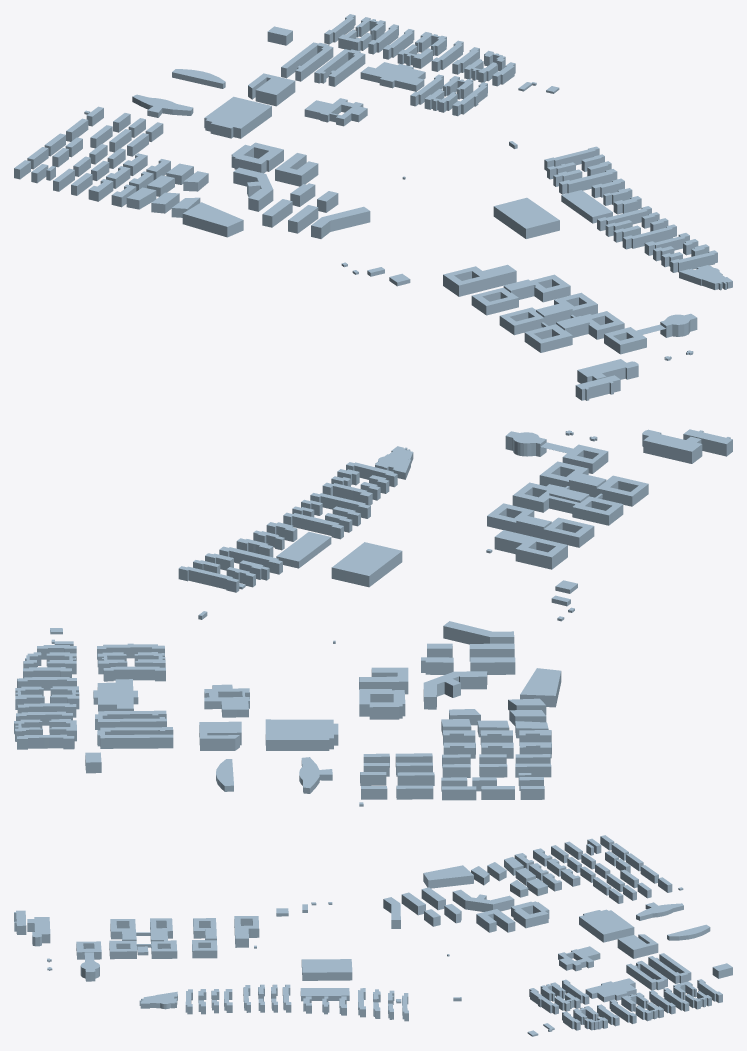
File: campus-lod1.glb
3 renders of one model, top to bottom at view 1: azimuth 30°, elevation 25°; view 2: azimuth 150°, elevation 25°; view 3: azimuth 270°, elevation 25°, orthographic. The views are drawn at different scales.
Parts seen in each view (by area): view 1: osm_way_223699456, osm_way_223699452, osm_way_155434036, osm_way_1281082570, osm_way_223859810, osm_way_223699454, njupt_k_dining_04, osm_way_224896131, osm_way_1173059720, osm_way_223944208, osm_way_1173057055, osm_way_1173057050 (+11 smaller); view 2: osm_way_155434036, osm_way_223699452, osm_way_223699456, osm_way_1281082570, osm_way_223859810, osm_way_223699454, osm_way_1173057055, osm_way_223859826, osm_way_1173059720, osm_way_224896131, osm_way_223944208, osm_way_225253712 (+21 smaller); view 3: osm_way_1281082570, osm_way_223859810, osm_way_223699456, osm_way_155434036, osm_way_223699452, njupt_k_dining_04, osm_way_1173057055, osm_way_224896131, osm_way_1173059720, osm_way_223944208, osm_way_223699454, osm_way_1173057056 (+16 smaller).
Part boxes in pixels (x1,y1,x2,y2): osm_way_223699456: (524,311,624,352); osm_way_223699452: (471,274,570,315); osm_way_155434036: (499,292,597,335); osm_way_1281082570: (204,96,271,138); osm_way_223859810: (493,197,559,238); osm_way_223699454: (443,264,516,296); njupt_k_dining_04: (182,202,243,237); osm_way_224896131: (360,62,425,91); osm_way_1173059720: (231,142,283,173); osm_way_223944208: (248,73,295,106); osm_way_1173057055: (233,167,273,211); osm_way_1173057050: (311,206,370,238); osm_way_155434036: (512,482,623,525); osm_way_223699452: (487,503,594,547); osm_way_223699456: (539,461,648,506); osm_way_1281082570: (265,719,338,750); osm_way_223859810: (331,542,402,587); osm_way_223699454: (494,530,567,569); osm_way_1173057055: (423,671,487,709); osm_way_223859826: (642,429,702,463); osm_way_1173059720: (359,689,405,719); osm_way_224896131: (93,679,138,711); osm_way_223944208: (199,721,241,750); osm_way_225253712: (97,730,173,748); osm_way_1281082570: (579,909,634,942); osm_way_223859810: (301,959,352,980); osm_way_223699456: (109,919,136,959); osm_way_155434036: (150,918,177,958); osm_way_223699452: (192,918,217,958); njupt_k_dining_04: (423,865,473,888); osm_way_1173057055: (452,889,514,911); osm_way_224896131: (585,978,636,1002); osm_way_1173059720: (511,901,549,928); osm_way_223944208: (617,934,658,958); osm_way_223699454: (234,916,259,947); osm_way_1173057056: (476,909,515,932).
Size of the model in its own units: 1020 by 23.51 by 1598.
